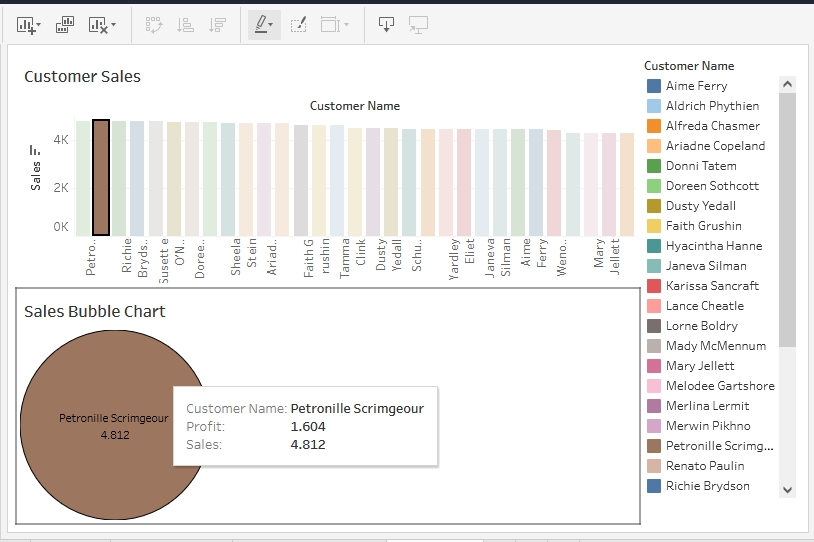

Layout of this report page (visuals, bound fields, positions):
{"tool":"tableau","page":{"name":"Dashboard","canvas":[800,487],"ordinal":0},"visuals":[{"type":"worksheet","title":"Customer Sales","mark":"Bar","rows":["Sales"],"cols":["Customer Name"],"box":[8,8,624,235.5]},{"type":"legend","title":"Customer Sales","param":"[federated.030pp3p1xqf0xw1cjht1s1s2d1cz].[none:Customer Name:nk]","box":[632,8,160,449]},{"type":"worksheet","title":"Sales Bubble Chart","mark":"Circle","box":[8,243.5,624,235.5]},{"type":"legend","title":"Sales Bubble Chart","param":"[federated.030pp3p1xqf0xw1cjht1s1s2d1cz].[sum:Sales:qk]","box":[632,457,160,22]}]}

Visuals, with their boxes on the page's 800x487 design canvas (x1, y1, x2, y2). These are canvas units, not pixel positions in the 814x542 screenshot, which may show the page scaled, cropped or inside an application window:
"Customer Sales" worksheet (Bar marks): rect(8, 8, 632, 244)
"Customer Sales" legend: rect(632, 8, 792, 457)
"Sales Bubble Chart" worksheet (Circle marks): rect(8, 244, 632, 479)
"Sales Bubble Chart" legend: rect(632, 457, 792, 479)
